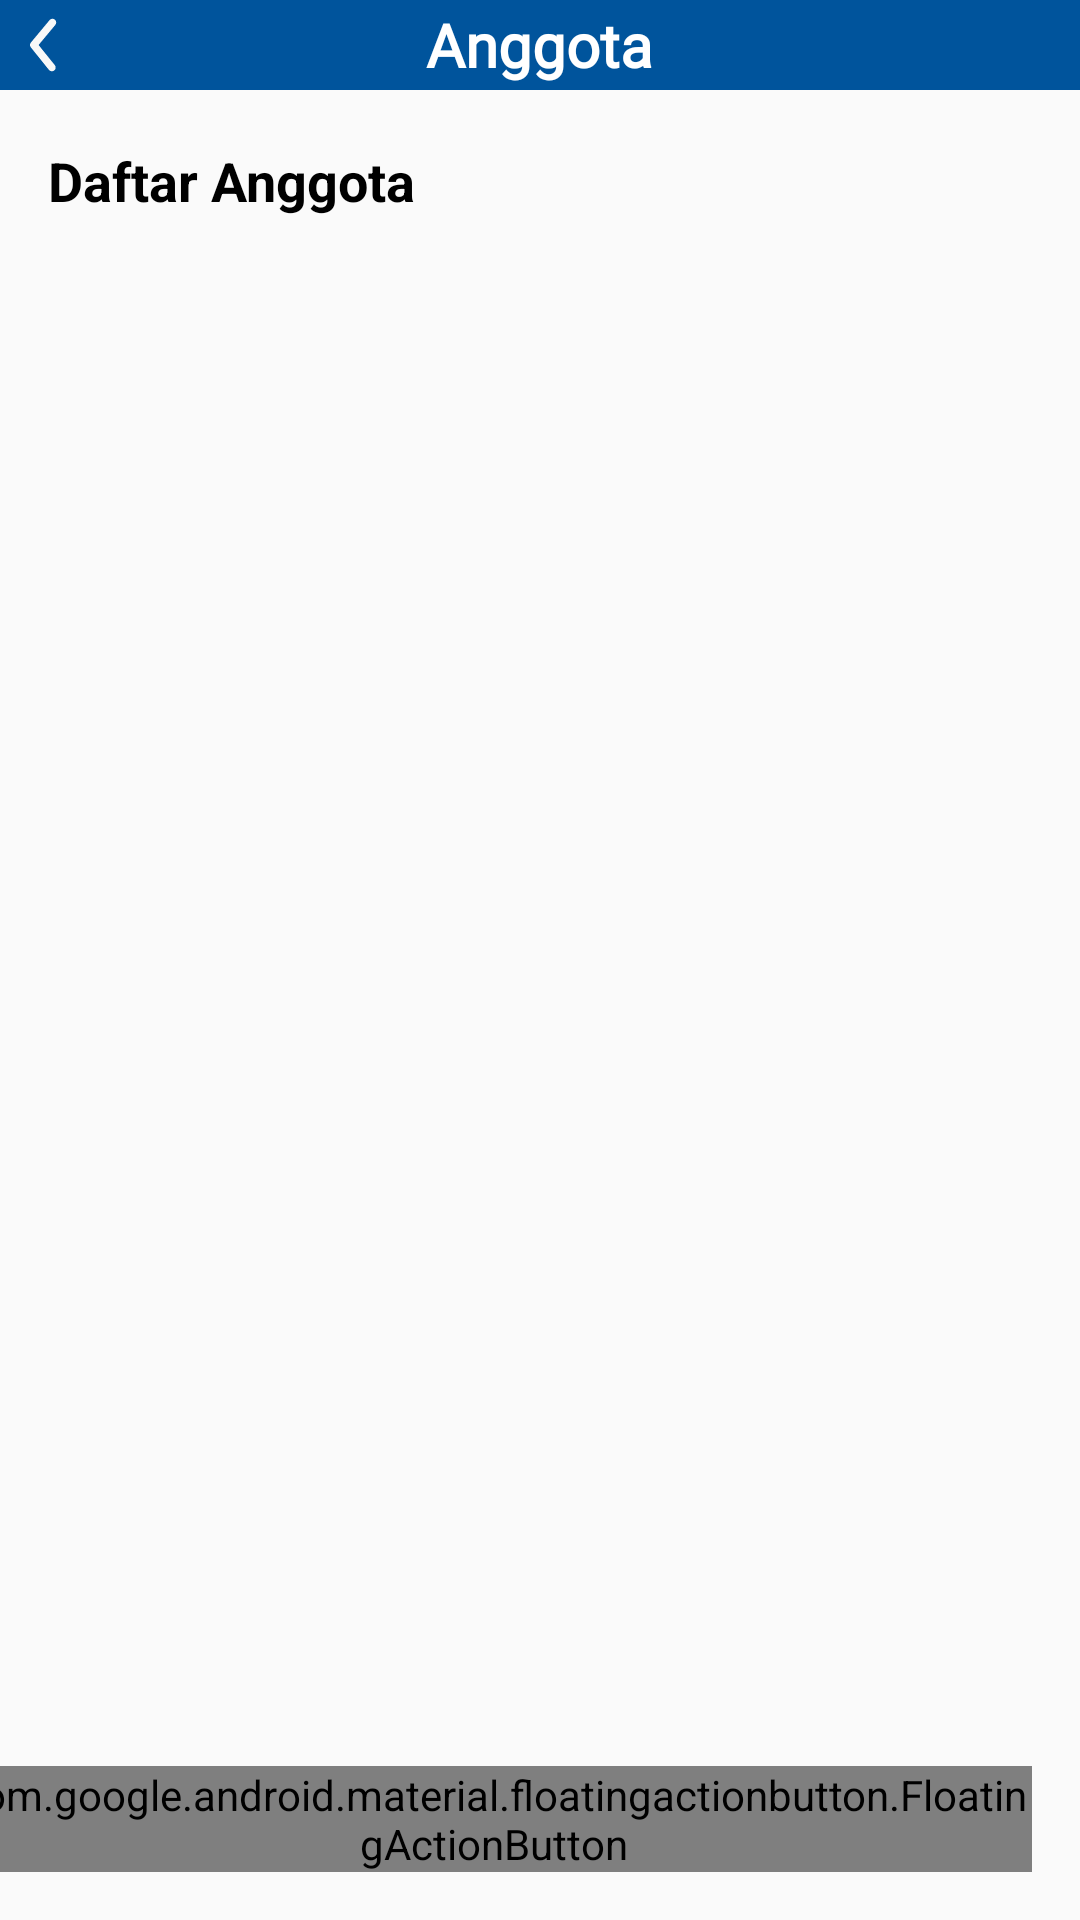

Icon bounding boxes for this 1080w x 1920h phone screenshot, format (x1, y1, x2, y2):
back arrow: (30, 18, 57, 72)
